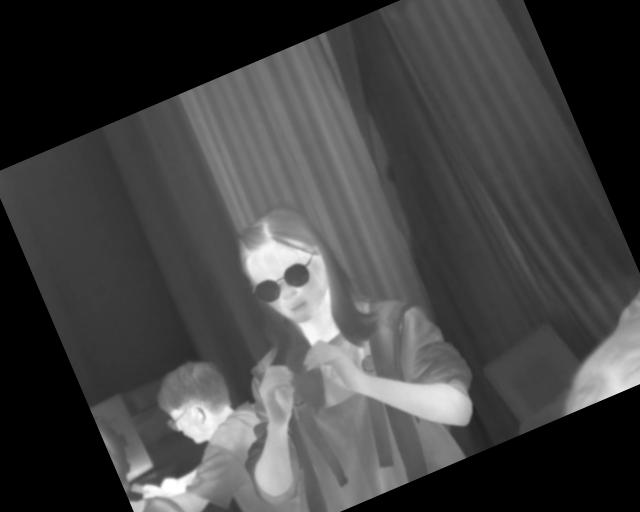face: (224, 196, 347, 337)
